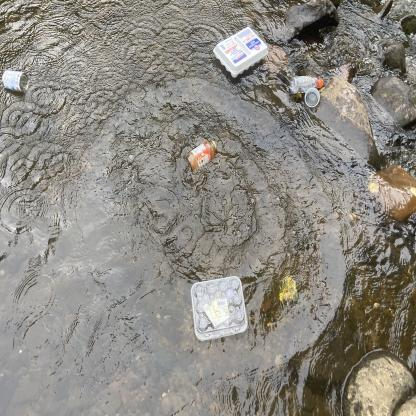trash: (186, 273, 252, 345), (208, 22, 275, 82), (184, 138, 220, 172), (284, 70, 326, 96), (0, 67, 34, 96), (273, 276, 299, 307), (302, 83, 322, 114)
